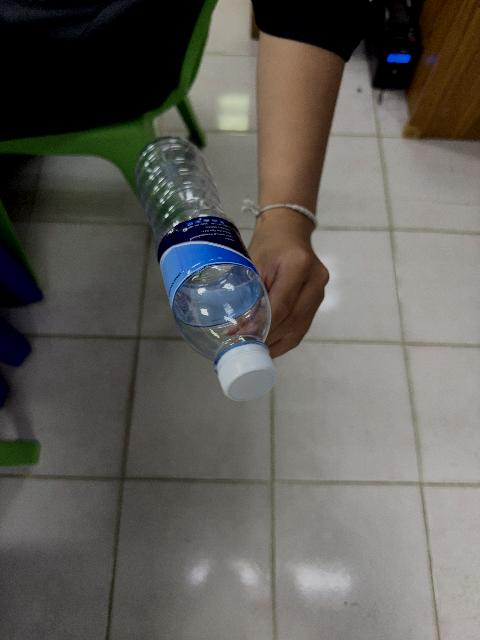bottle: (134, 137, 275, 400)
